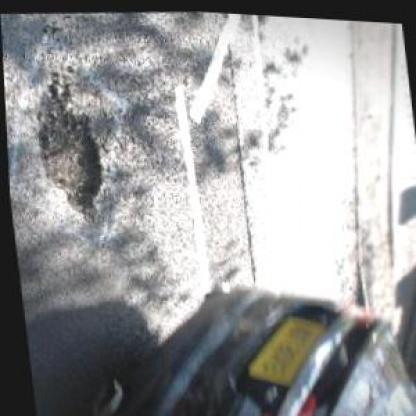pothole: (28, 85, 108, 226), (344, 265, 365, 306)
